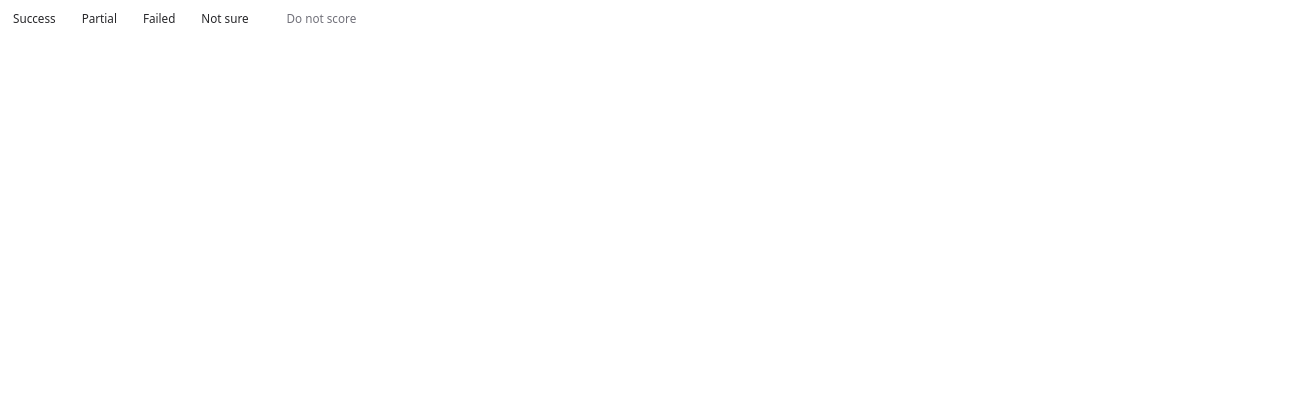
Test: keeps the no-Advisor state clear and marks only a reported matching choice
Click the button "Partial": (99, 18) [71,4,128,32]
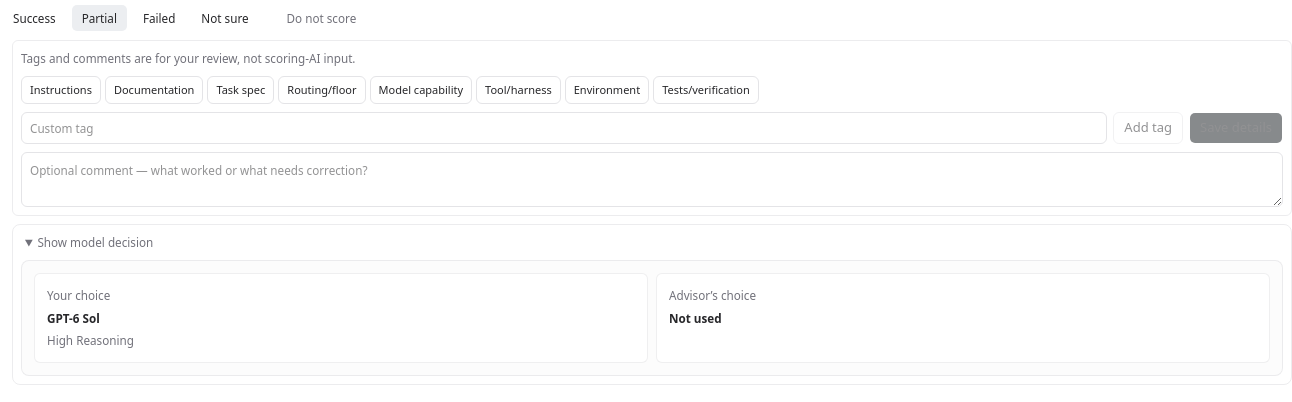
Result: the element labelled "Your choice" shows "GPT-6 Sol" at [47,310,100,326]
Result: the element labelled "Advisor’s choice" shows "Not used" at [669,310,722,326]
